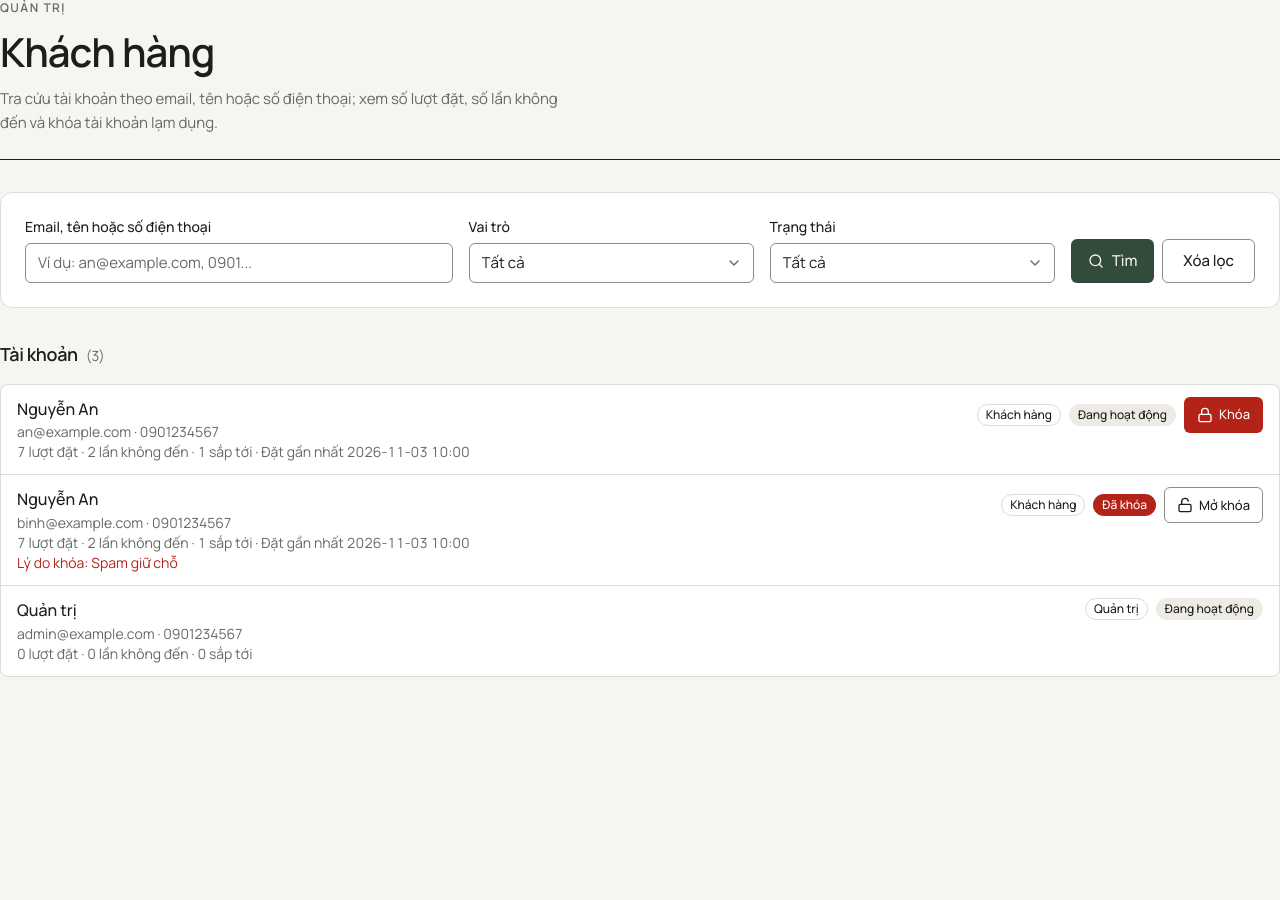
AdminUsersPage (CWB-79) › keeps the dialog open with the server error when the change is rejected
Click the button with test id "user-toggle-user-2" at x=1214, y=505, box [1164,487,1263,523]
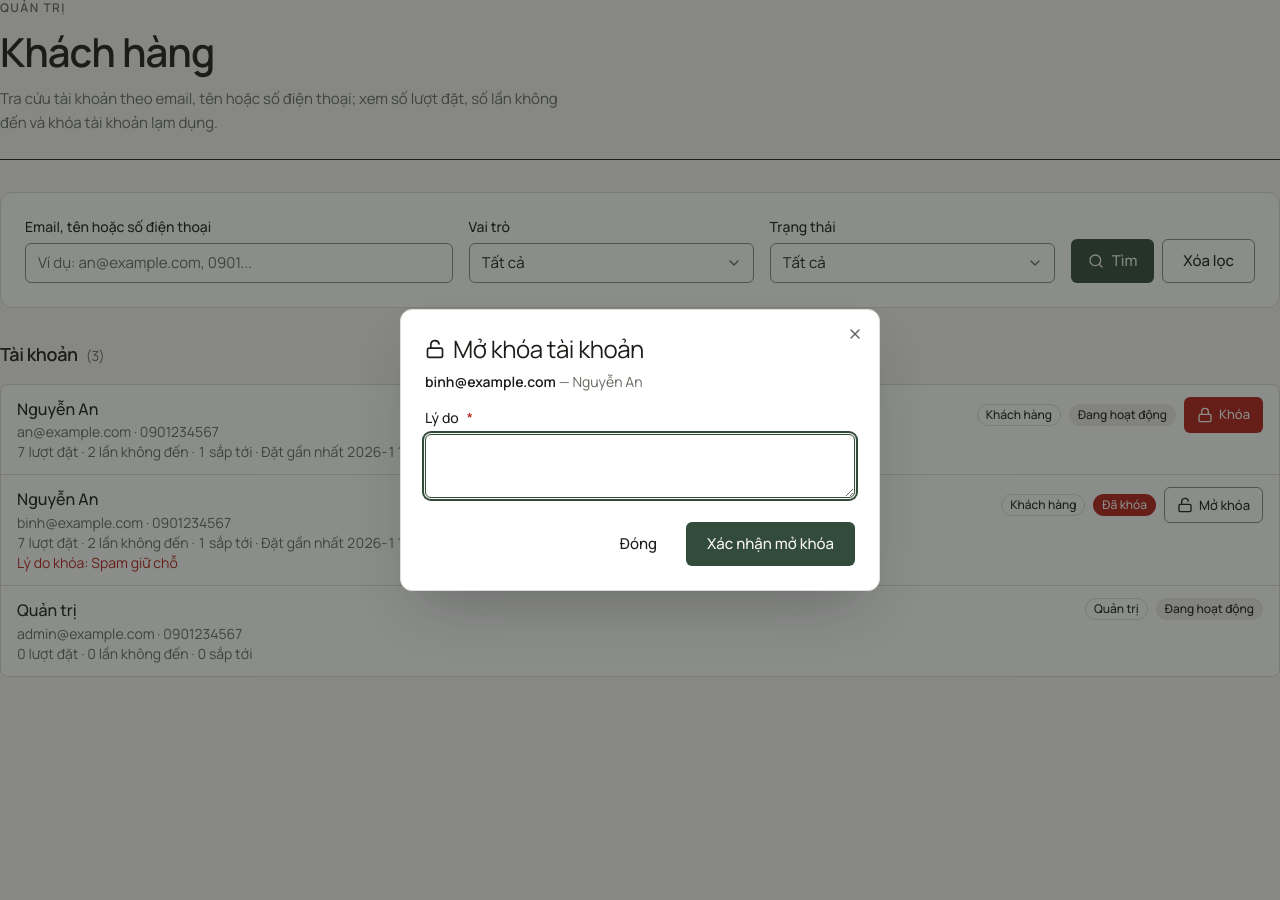
Type "Đã xác minh" into the text box with test id "user-status-reason" at x=640, y=466, box [425,434,855,498]
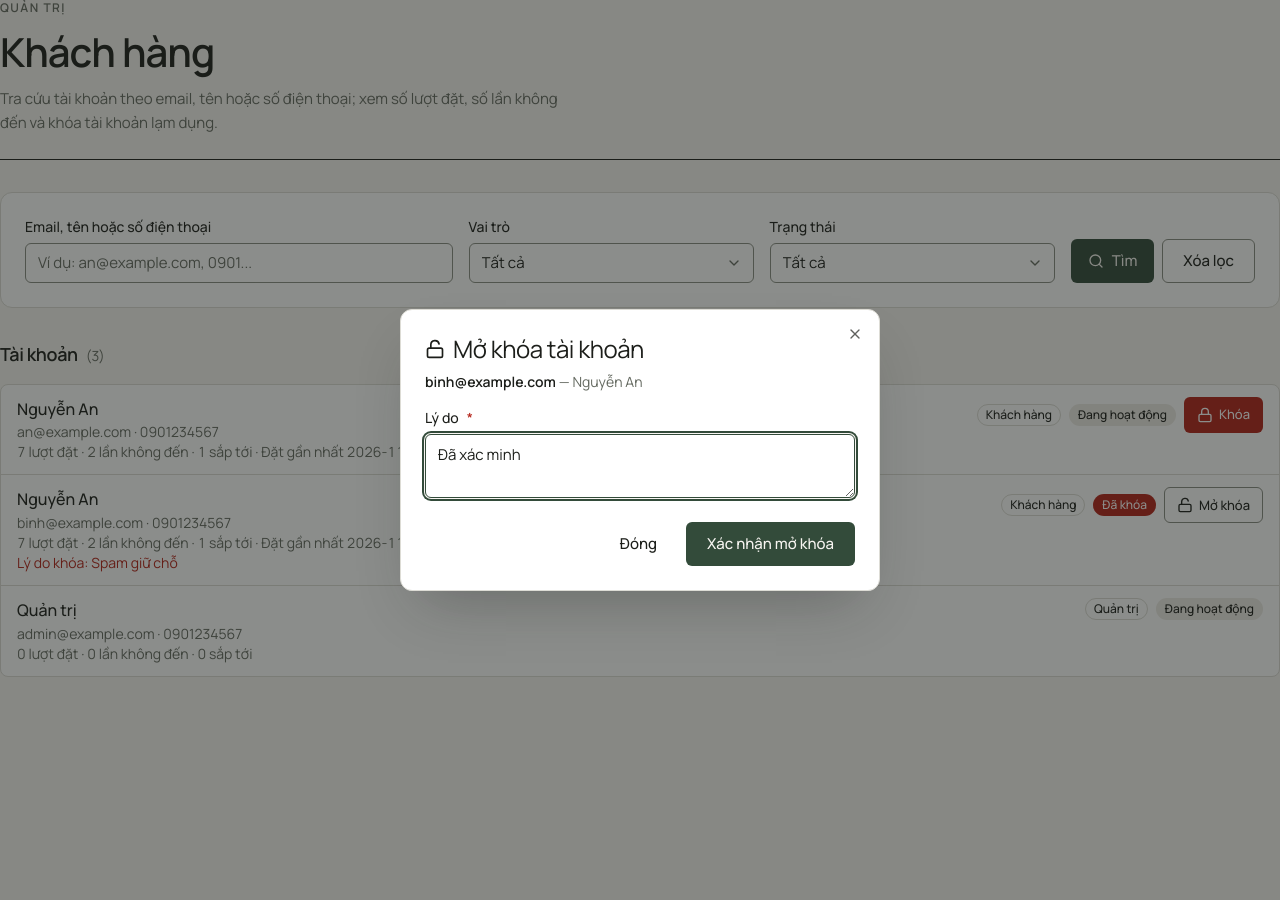
Click the button with test id "user-status-submit" at x=770, y=544, box [686,522,855,566]
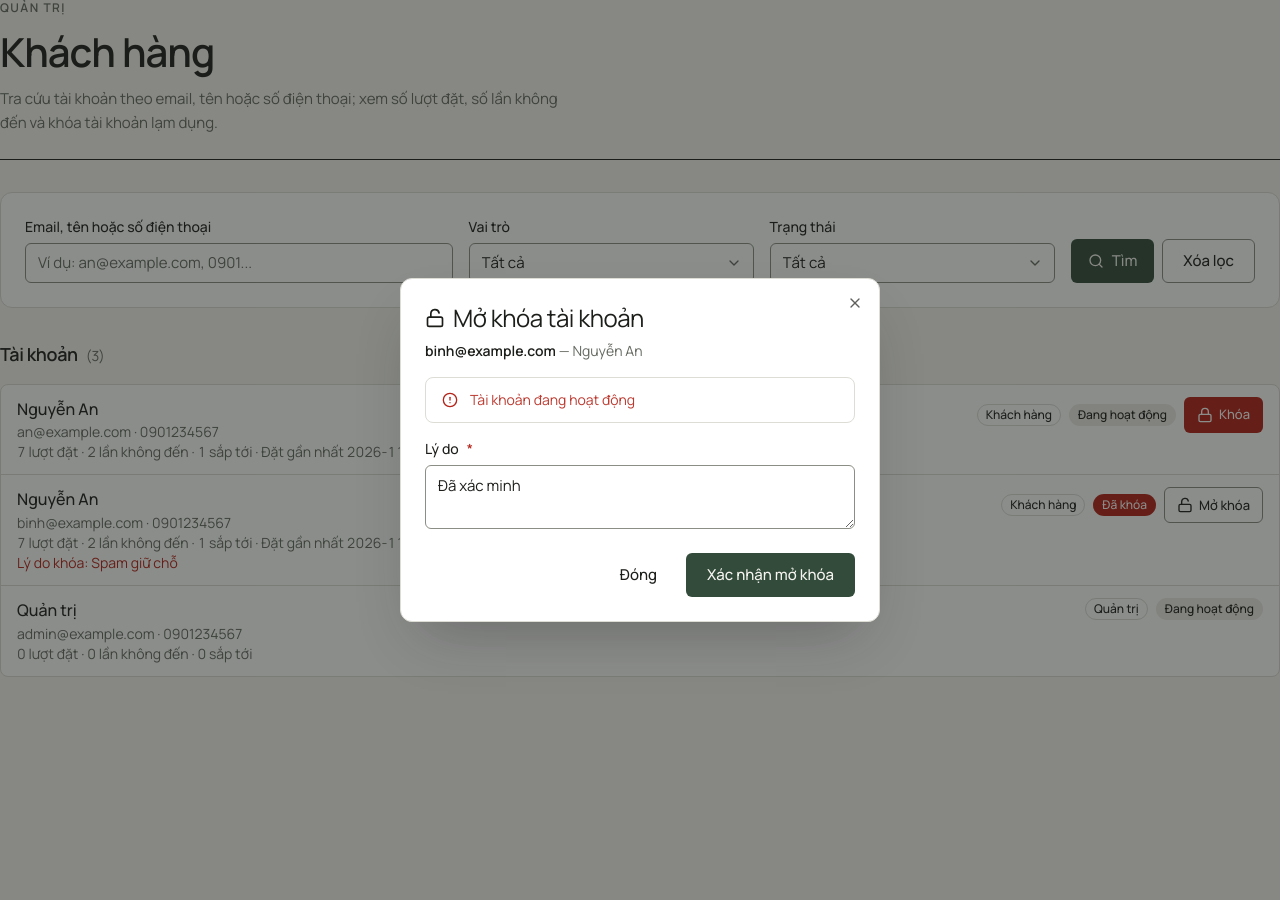
Check: the text "Tài khoản đang hoạt động" is shown, box [470,390,635,409]
